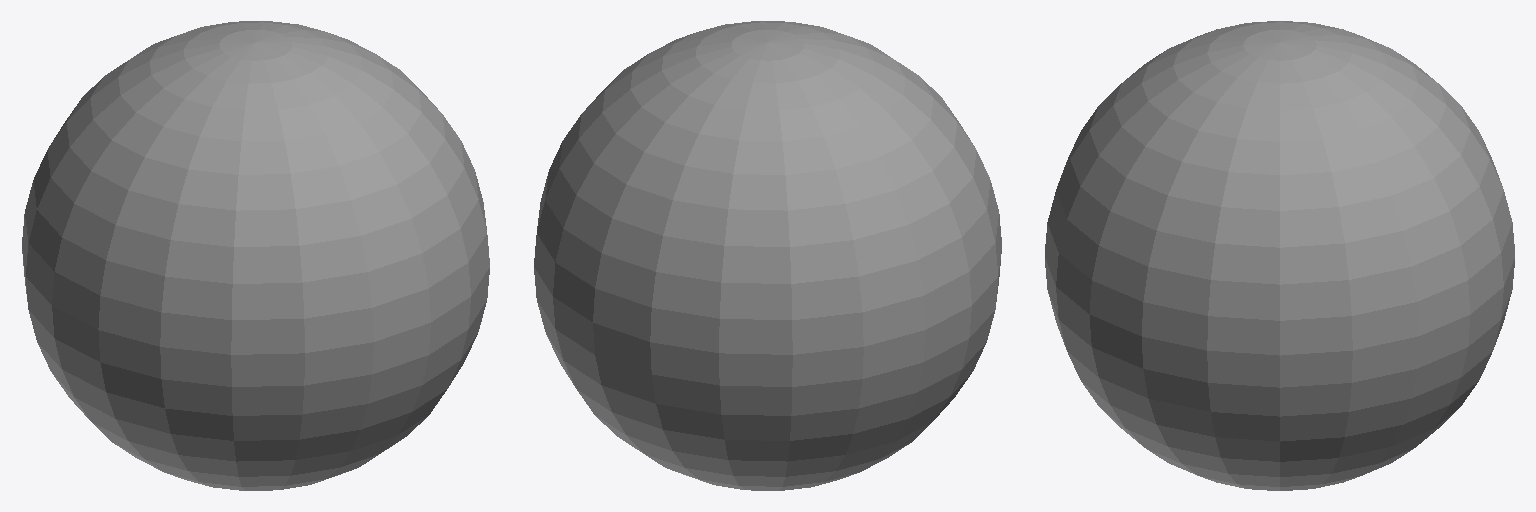
3 renders of one model, left to right at view 1: azimuth 30°, elevation 25°; view 2: azimuth 150°, elevation 25°; view 3: azimuth 270°, elevation 25°, orthographic.
Parts seen in each view (by area): view 1: earth; view 2: earth; view 3: earth.
Boxes of the visible parts, x1=… form: earth: x1=22, y1=21, x2=489, y2=490; earth: x1=534, y1=21, x2=1001, y2=490; earth: x1=1045, y1=21, x2=1514, y2=490.
Bounding box in the file's own units: 1.9 × 1.9 × 1.9.